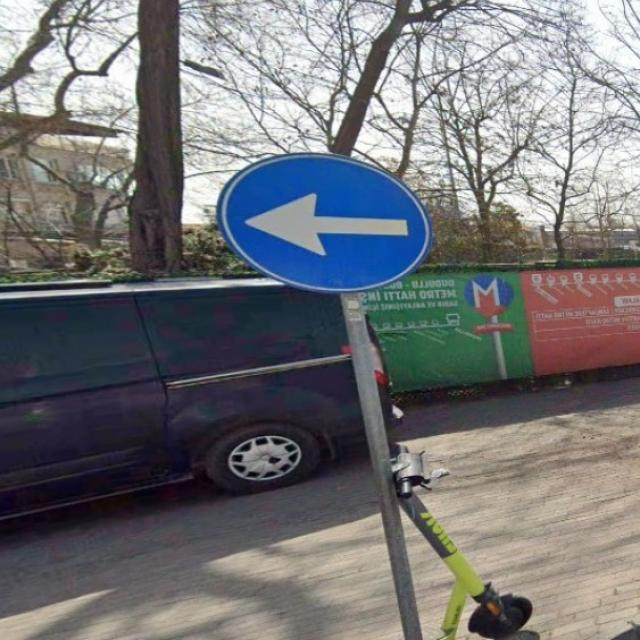Turn Left: (217, 159, 426, 293)
